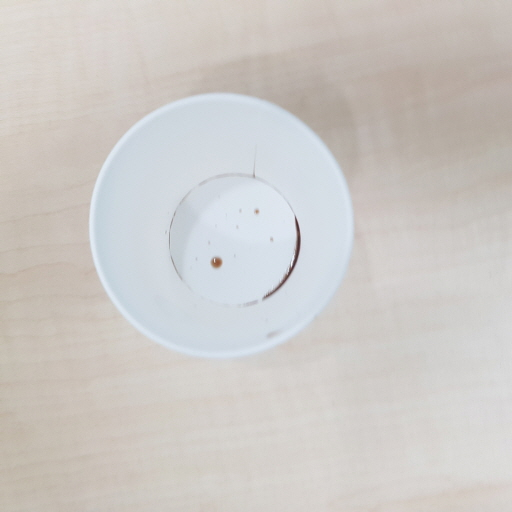Paper_1: (85, 89, 355, 358)
